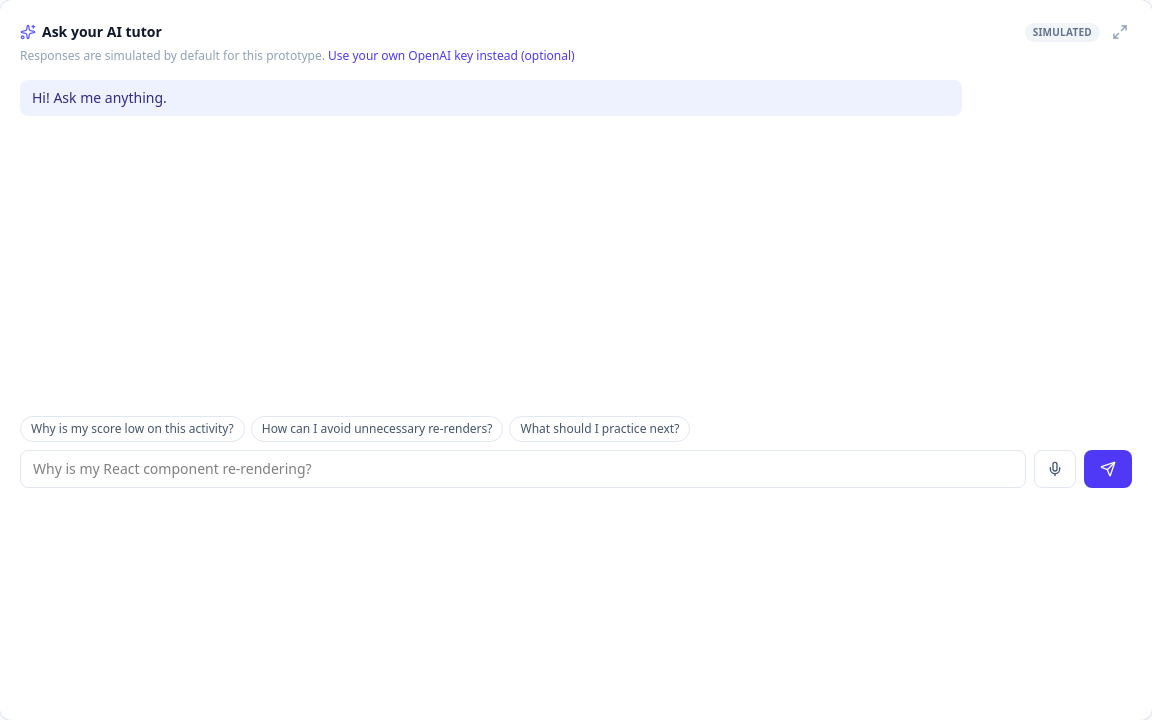
AiTutorChat › transcribes a spoken tutor instruction into the editable question field
Click the button named "start voice input": [1055, 469] box [1034, 450, 1076, 488]
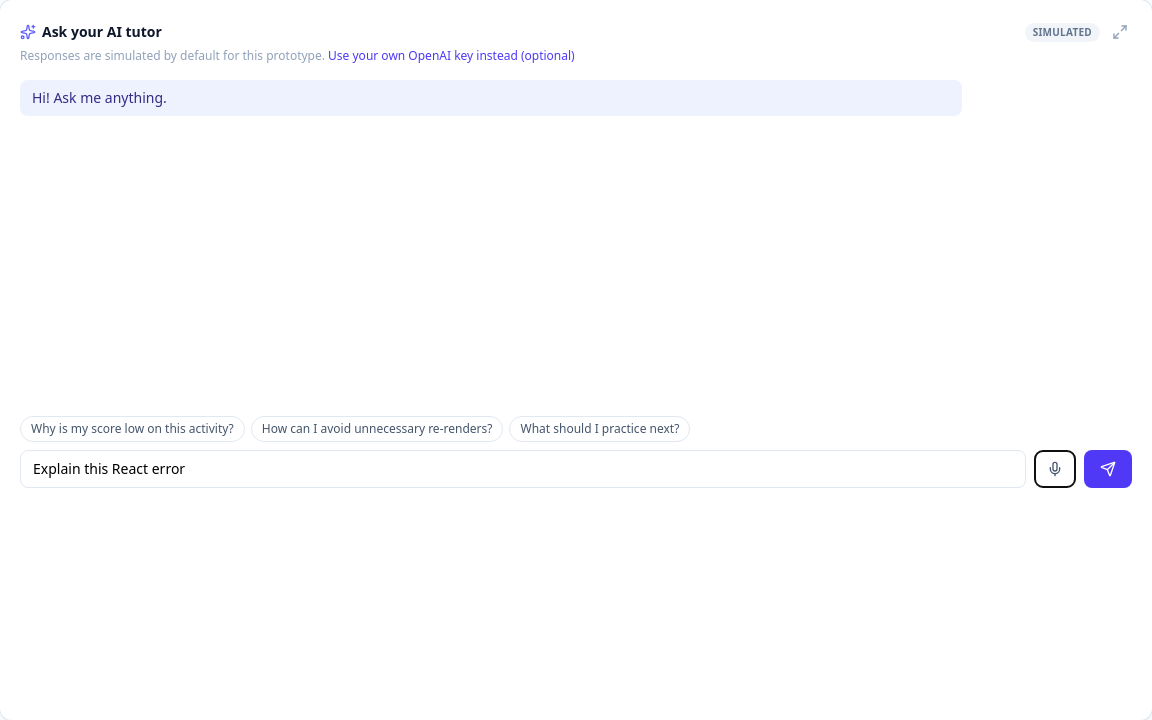
Result: the field named "Ask a question" holds "Explain this React error" at [20, 450, 1026, 488]
